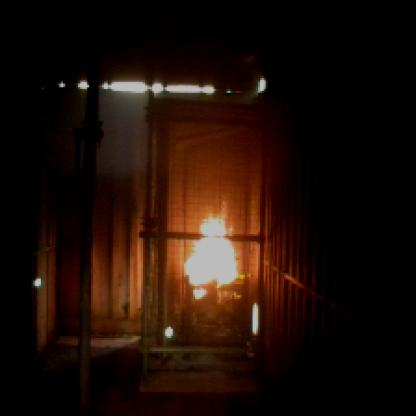Fire: (182, 195, 243, 297)
